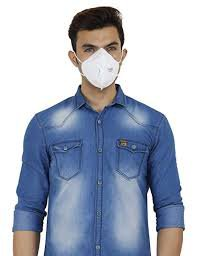mask: (61, 8, 134, 102)
